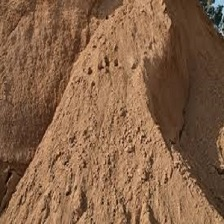sandy_soil: (10, 14, 204, 200)
